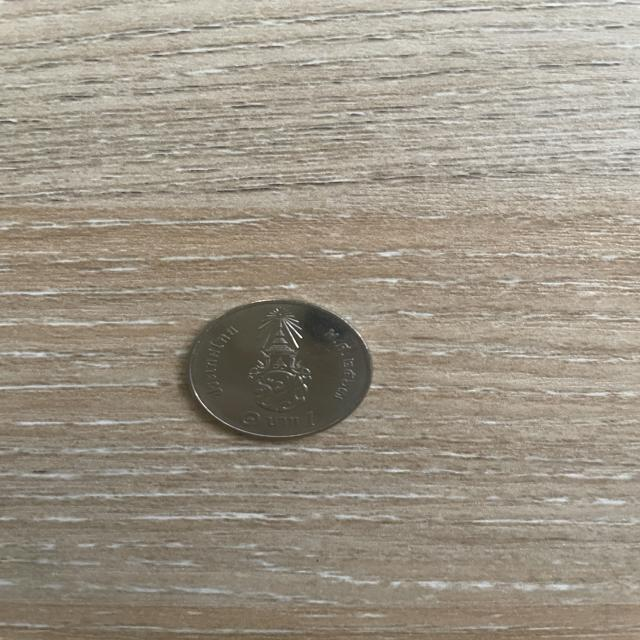1 Bath: (175, 290, 385, 451)
